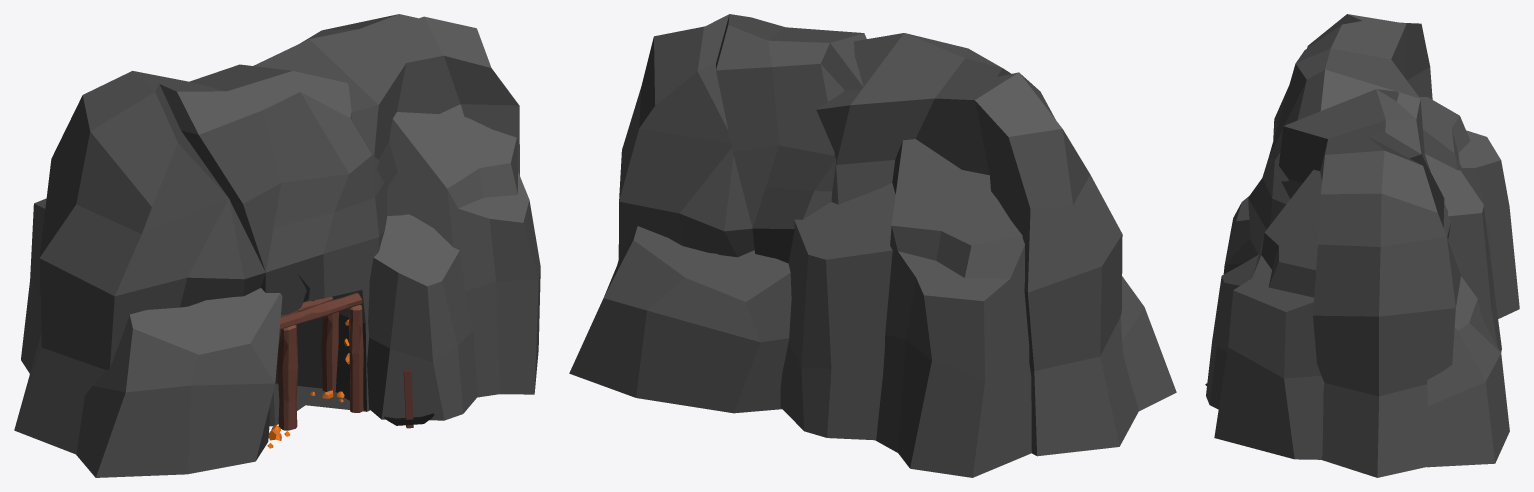
Rendered from iron_mine_1.fbx.
3 renders of one model, left to right at view 1: azimuth 30°, elevation 25°; view 2: azimuth 150°, elevation 25°; view 3: azimuth 270°, elevation 25°, orthographic. The views are drawn at different scales.
Visible parts, largest first — view 1: rock.001, pickaxe.001; view 2: rock.001; view 3: rock.001.
Boxes of the visible parts, left/top/right/bottom form: rock.001: left=14, top=14, right=540, bottom=477; pickaxe.001: left=384, top=369, right=434, bottom=428; rock.001: left=569, top=14, right=1176, bottom=477; rock.001: left=1206, top=14, right=1519, bottom=477.
Bounding box in the file's own units: 455 × 284 × 269.
